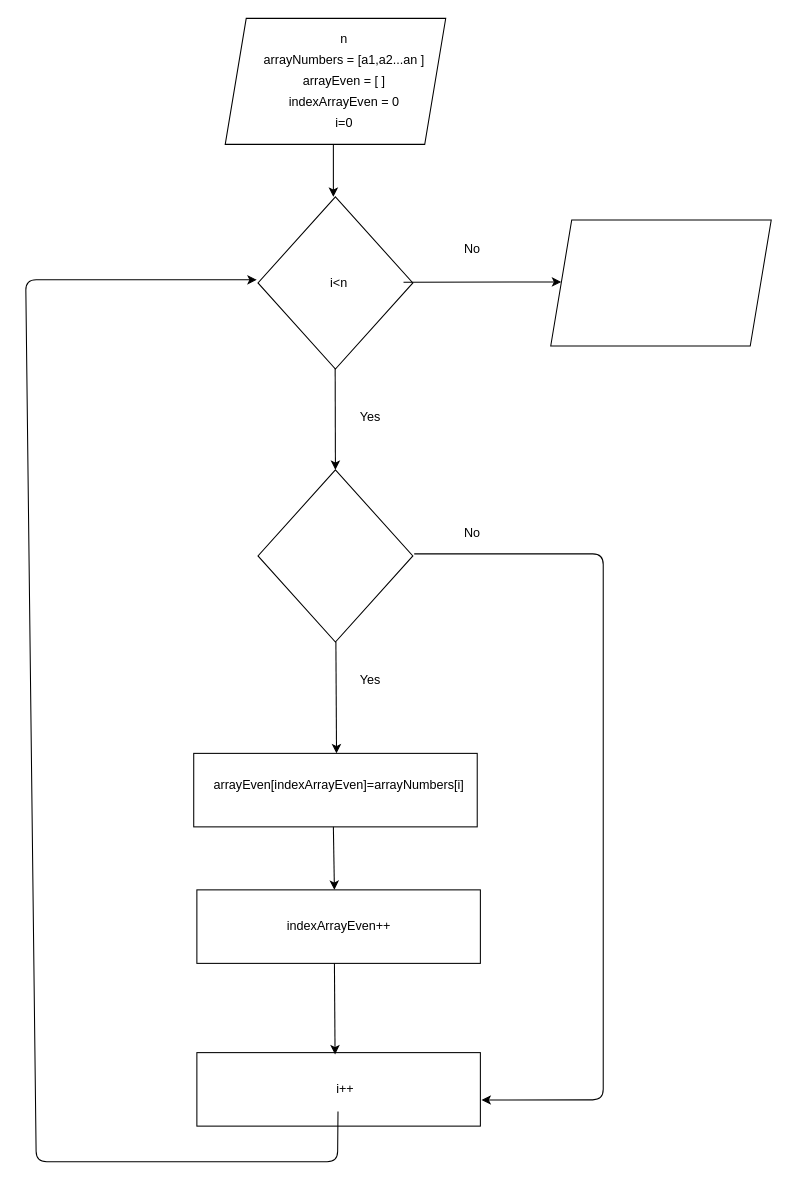
The diagram is 790 pixels wide and 1189 high, and some of its shapes have lost their labels. The centre of each missing label's shape, as x and y in pixels:
"arrayNumbers[i] % 2 ==0" goes at (335,555).
"Write(arrayEven)" goes at (660,282).
